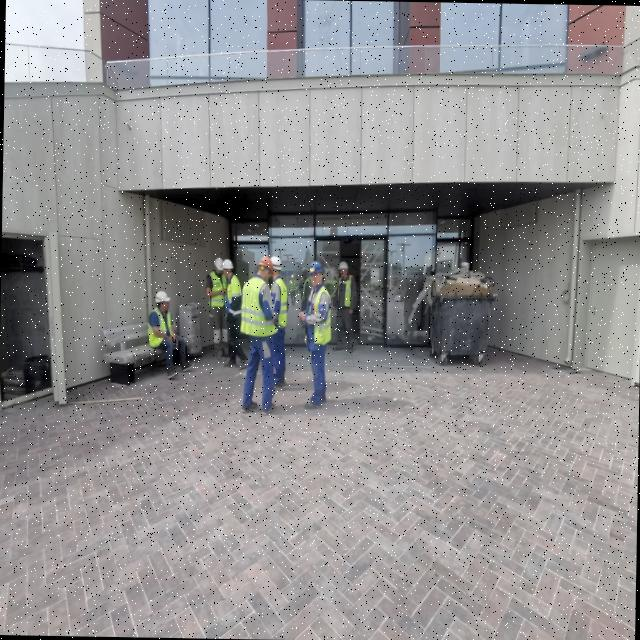Helmet: (257, 257, 275, 283), (309, 262, 325, 288), (155, 291, 172, 313), (270, 256, 283, 276), (223, 260, 235, 280), (338, 262, 350, 280), (213, 258, 225, 275), (291, 274, 296, 282)
